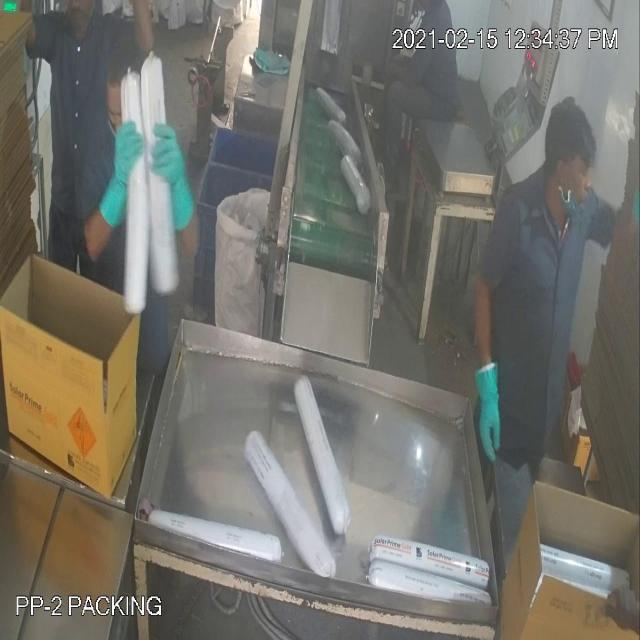Gloves: (41, 54, 487, 406)
